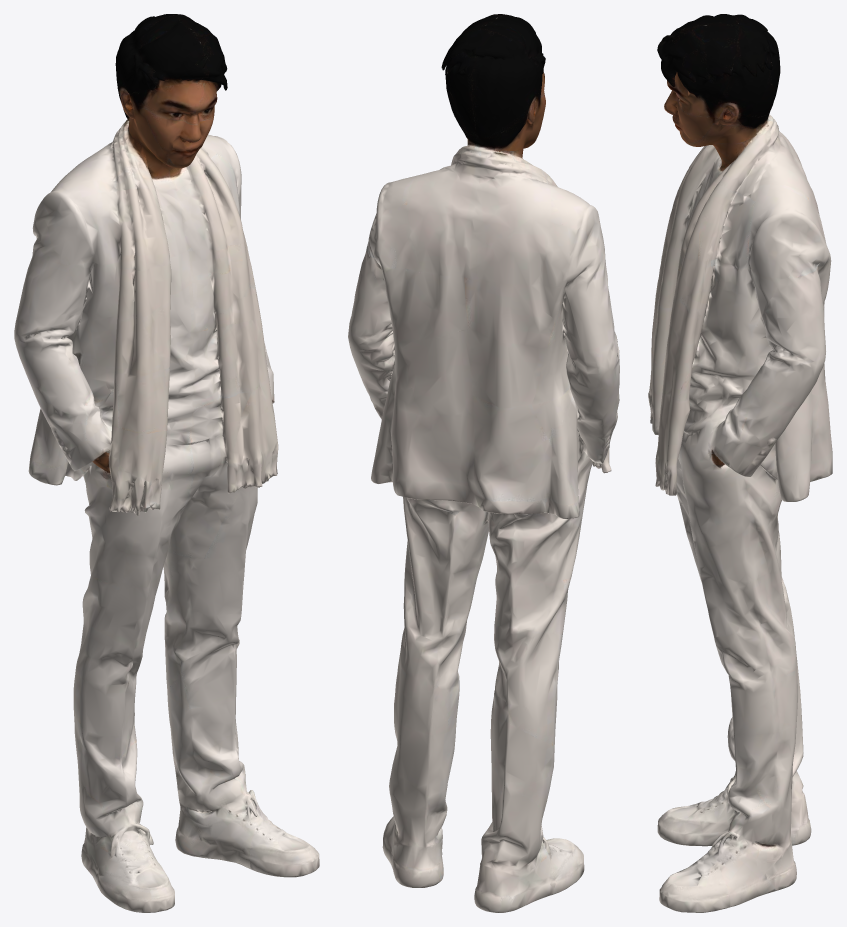
Rendered from zav.glb.
3 views of the same model, side by side, from view 1: azimuth 30°, elevation 25°; view 2: azimuth 150°, elevation 25°; view 3: azimuth 270°, elevation 25° (orthographic). The views are drawn at different scales.
Visible parts, largest first — view 1: mesh_node; view 2: mesh_node; view 3: mesh_node.
Part boxes in pixels (x1,y1,x2,y2): mesh_node: (14,14,319,912); mesh_node: (348,14,619,912); mesh_node: (648,14,832,912).
Bounding box in the file's own units: 0.6072 × 1.9 × 0.3802.
Materials: 1 (1 with a texture image).
